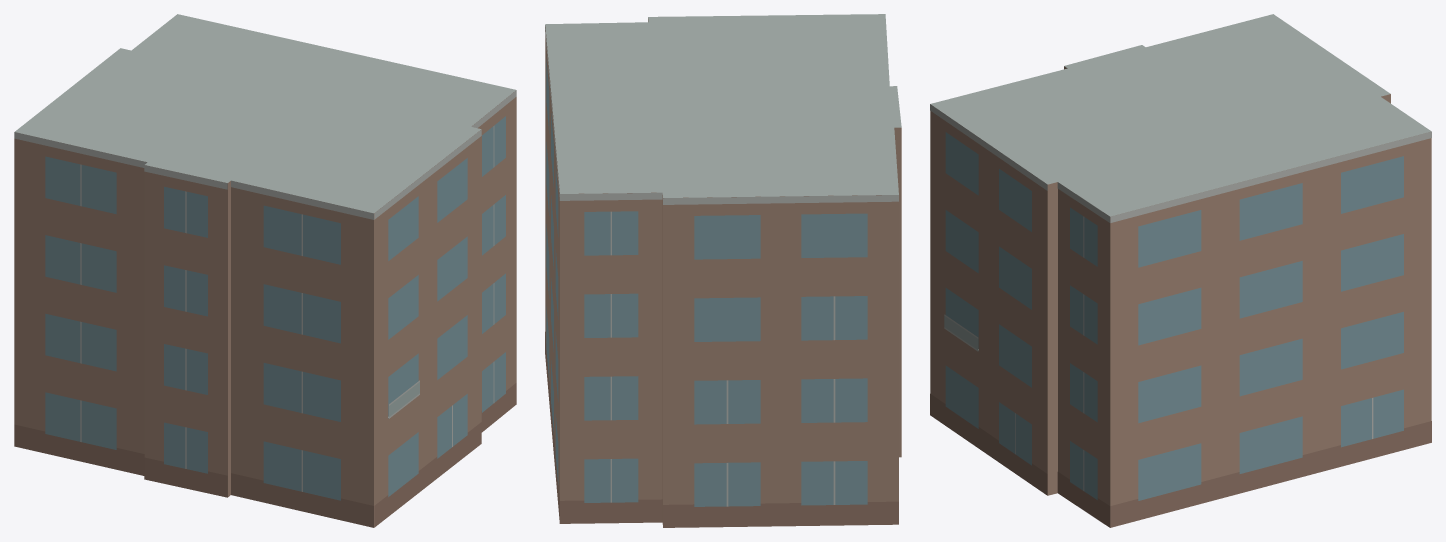
The model's file is survey-upis-33002639.glb.
3 renders of one model, left to right at view 1: azimuth 30°, elevation 25°; view 2: azimuth 150°, elevation 25°; view 3: azimuth 270°, elevation 25°, orthographic. The views are drawn at different scales.
Parts seen in each view (by area): view 1: survey-upis-33002639.tmp; view 2: survey-upis-33002639.tmp; view 3: survey-upis-33002639.tmp.
Boxes of the visible parts, <box> form: survey-upis-33002639.tmp: <box>14,14,516,527</box>; survey-upis-33002639.tmp: <box>545,14,901,527</box>; survey-upis-33002639.tmp: <box>930,14,1431,527</box>.
Bounding box in the file's own units: 16.27 × 11.64 × 17.02.
